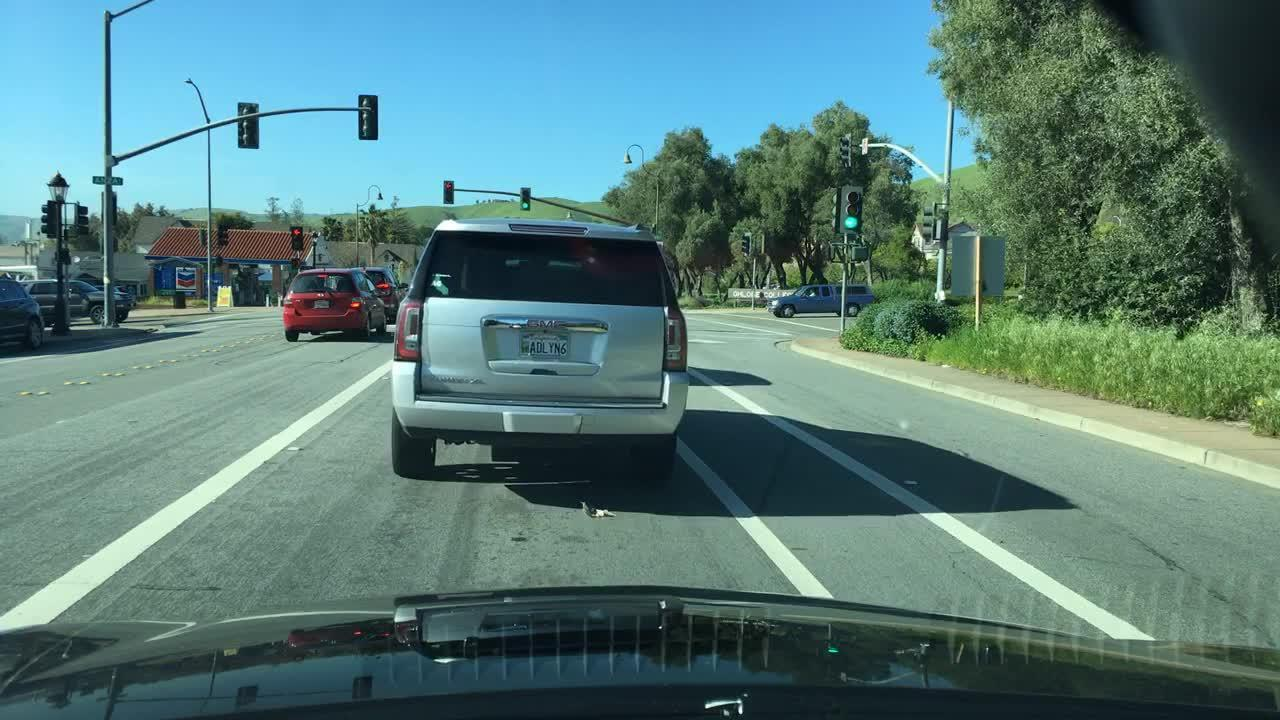GMC: (518, 310, 575, 339)
